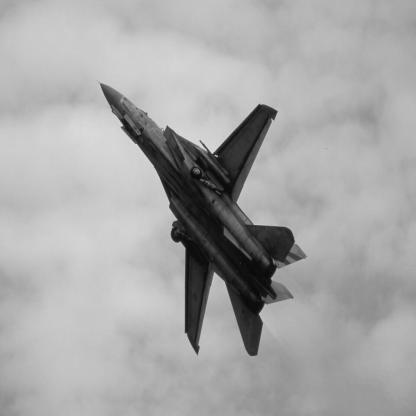F14: (98, 81, 309, 358)
